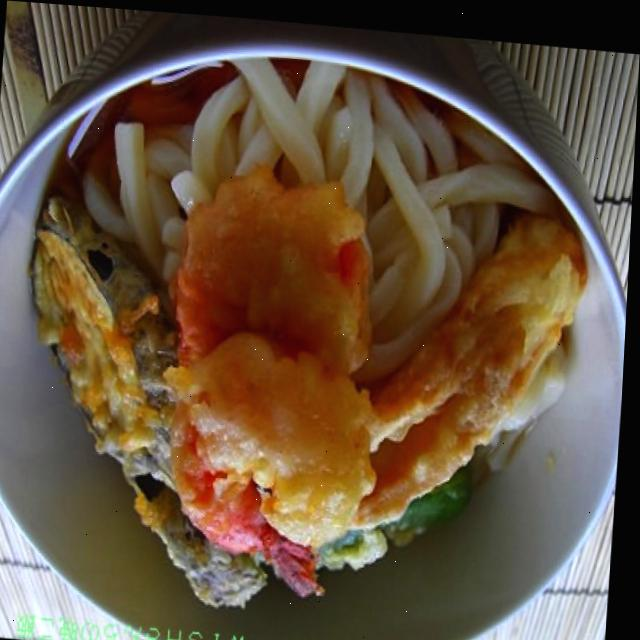面条主食: (23, 46, 586, 616)
